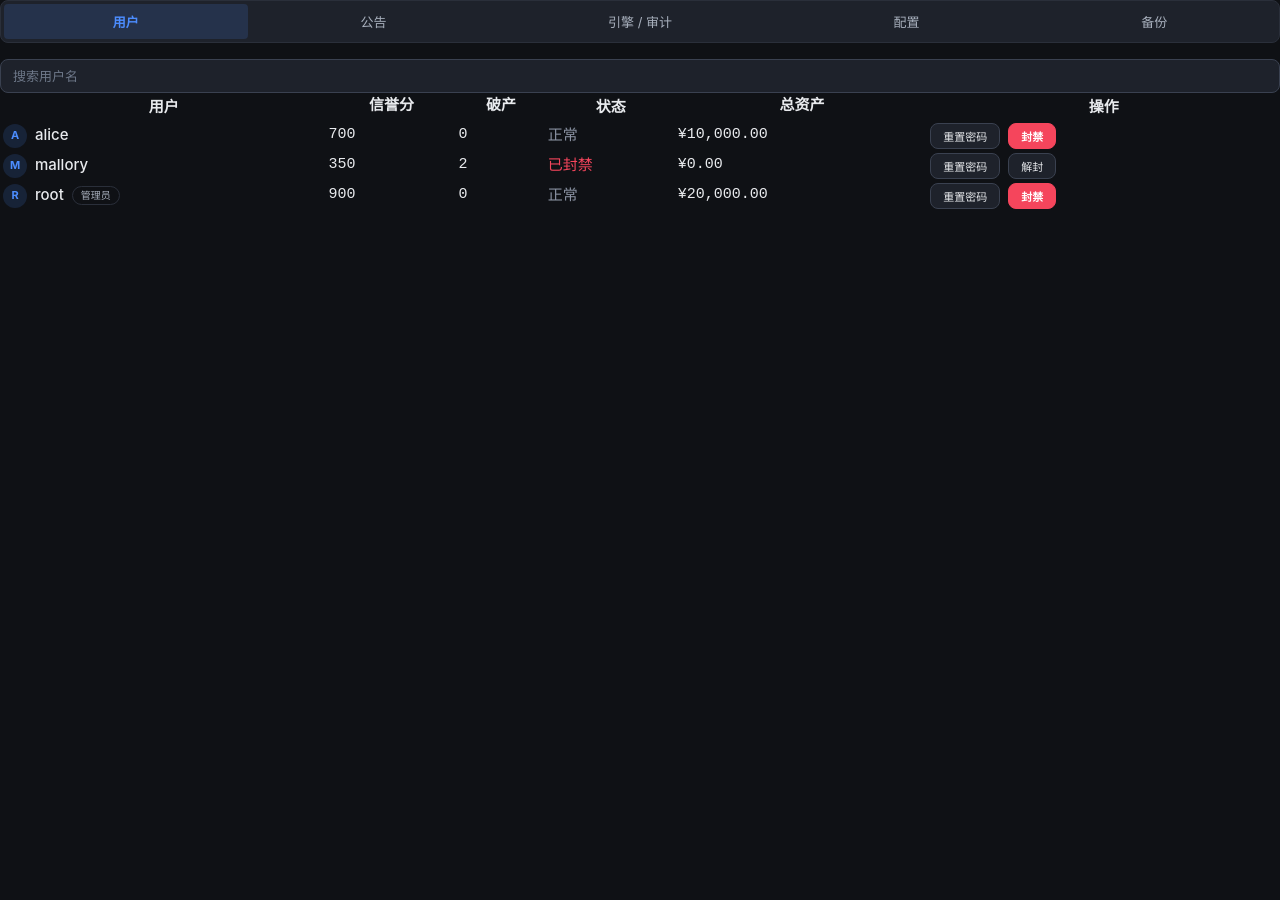
Test: 封禁需二次确认 › 解封也需确认（不因为"是恢复操作"就跳过）
The width and height of the screenshot is (1280, 900).
Expected: the table with test id "admin-users" is shown, [0, 93, 1279, 212]
Click the button with test id "ban-3".
click(1032, 166)  # box [1008, 152, 1056, 178]
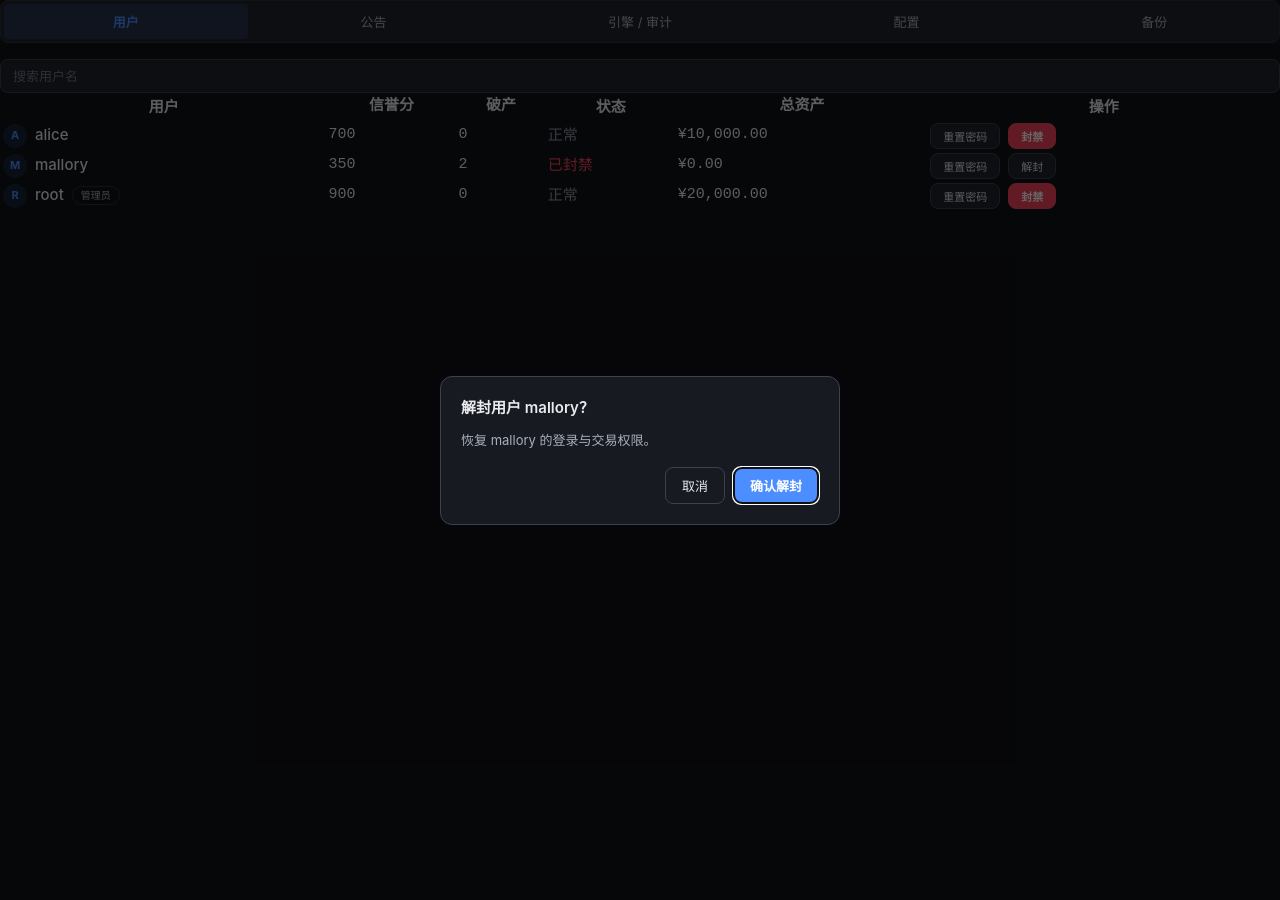
Result: the dialog with test id "confirm-dialog" shows "mallory" at [491, 432, 536, 448]
